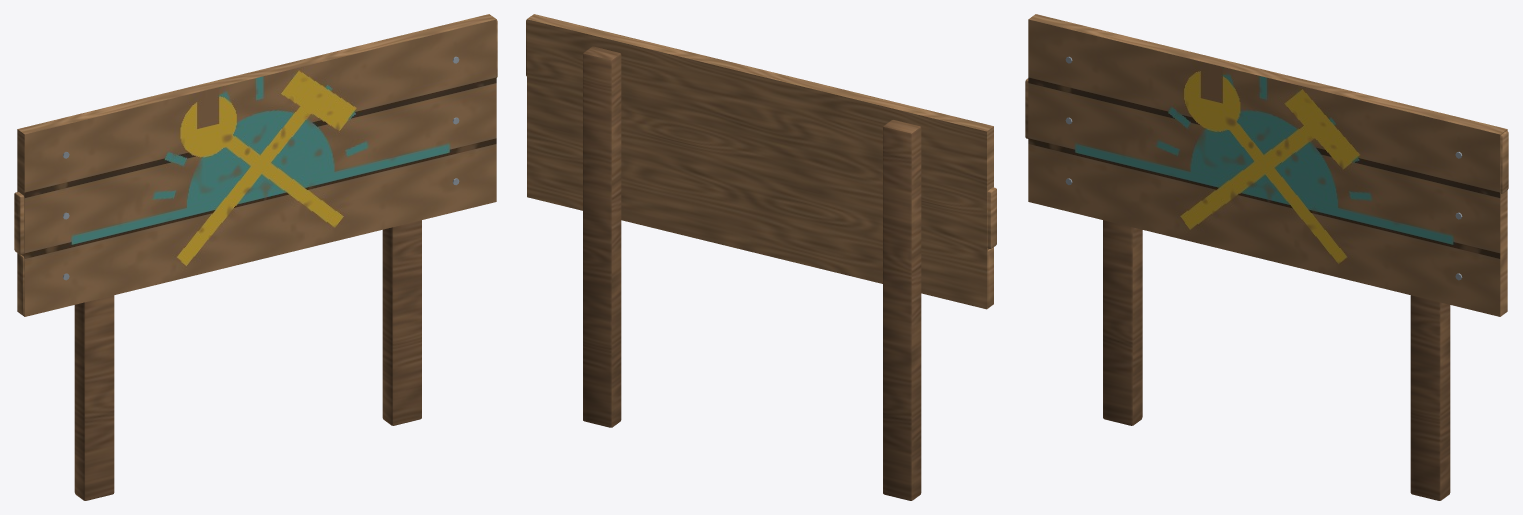
File: hard_work_sign.glb
3 renders of one model, left to right at view 1: azimuth 30°, elevation 25°; view 2: azimuth 150°, elevation 25°; view 3: azimuth 330°, elevation 25°, orthographic. The views are drawn at different scales.
Visible parts, largest first — view 1: HardWorkSignMesh; view 2: HardWorkSignMesh; view 3: HardWorkSignMesh.
Part boxes in pixels (box(x1,y1,x2,y2)): HardWorkSignMesh: box(14, 14, 497, 500); HardWorkSignMesh: box(526, 14, 996, 500); HardWorkSignMesh: box(1025, 14, 1508, 500).
Bounding box in the file's own units: 0.9319 × 0.725 × 0.062.
4 materials, 4 textured.
